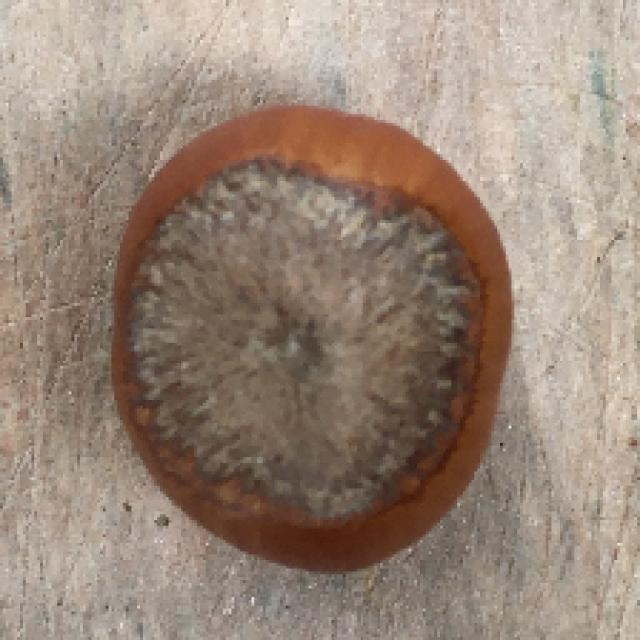qualityHazelnut: (109, 98, 519, 574)
